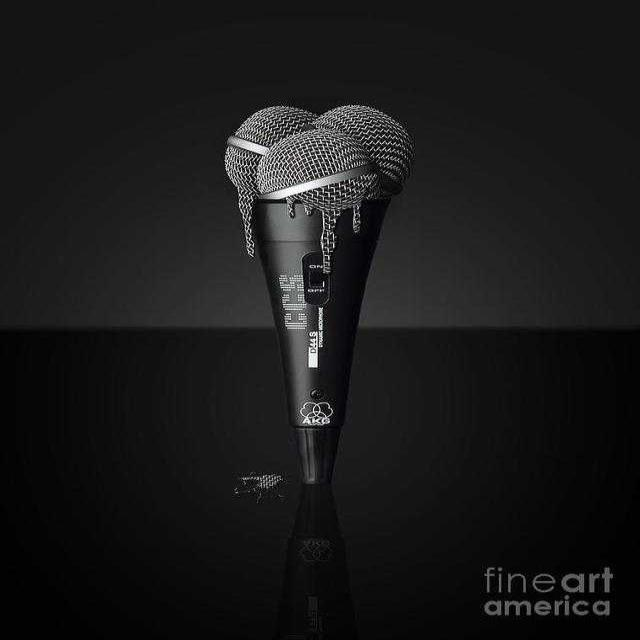microphone: (223, 84, 423, 485)
